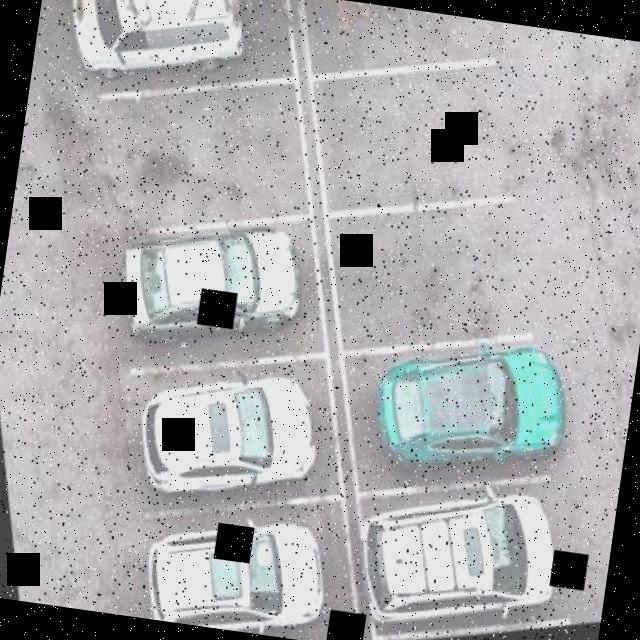space-empty: (71, 57, 322, 266), (302, 36, 527, 228), (315, 188, 530, 365), (291, 0, 493, 92)
space-occupied: (86, 321, 356, 553), (332, 454, 589, 640), (352, 298, 590, 495), (82, 195, 324, 385), (113, 480, 357, 640), (45, 0, 256, 111)
